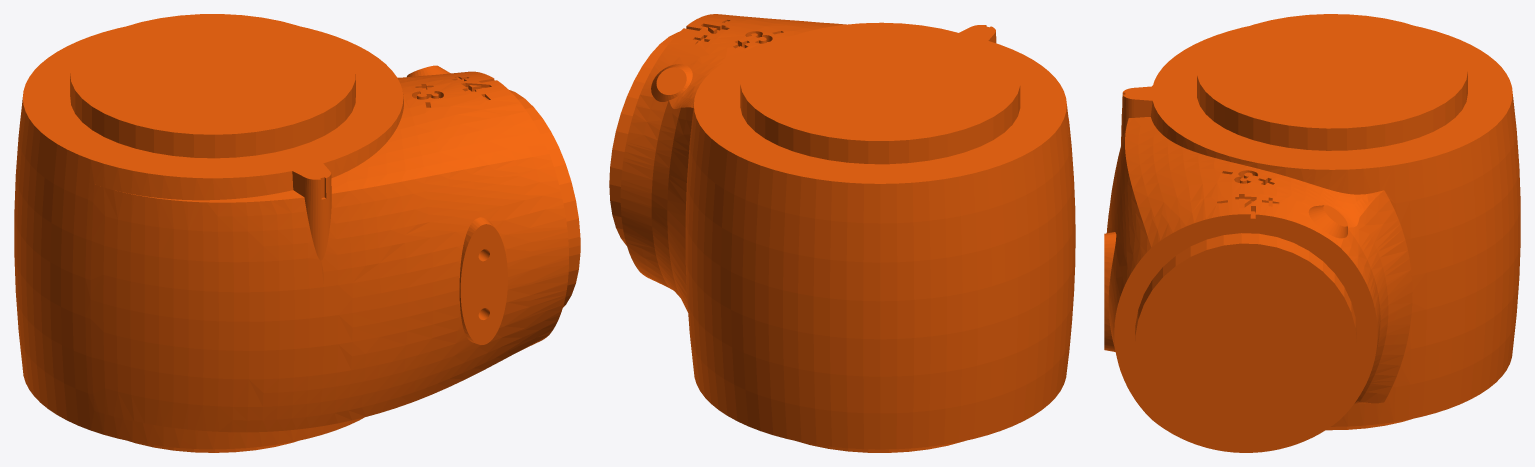
Rendered from KukaKR10R1100AlignedLink3.dae.
3 views of the same model, side by side, from view 1: azimuth 30°, elevation 25°; view 2: azimuth 150°, elevation 25°; view 3: azimuth 270°, elevation 25° (orthographic). The views are drawn at different scales.
Visible parts, largest first — view 1: node0; view 2: node0; view 3: node0.
Part boxes in pixels (x1,y1,x2,y2): node0: (14, 14, 580, 452); node0: (609, 14, 1075, 452); node0: (1104, 14, 1520, 452).
Size of the model in its own units: 0.1934 by 0.135 by 0.1689.
